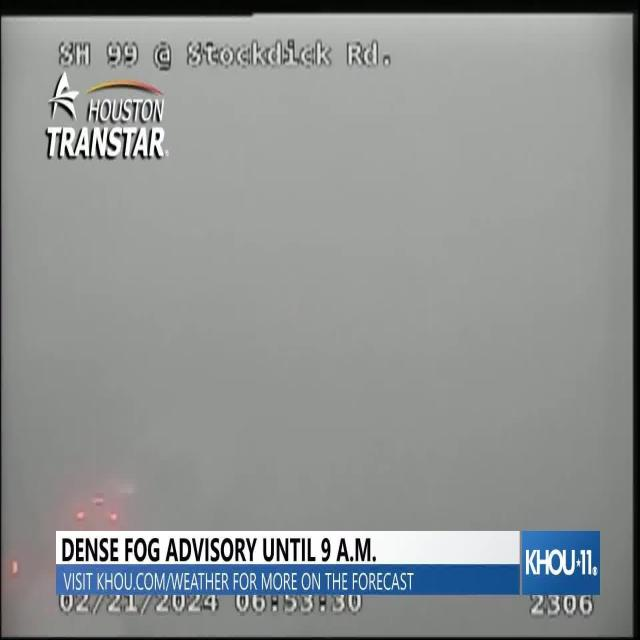Car: (73, 482, 125, 538)
